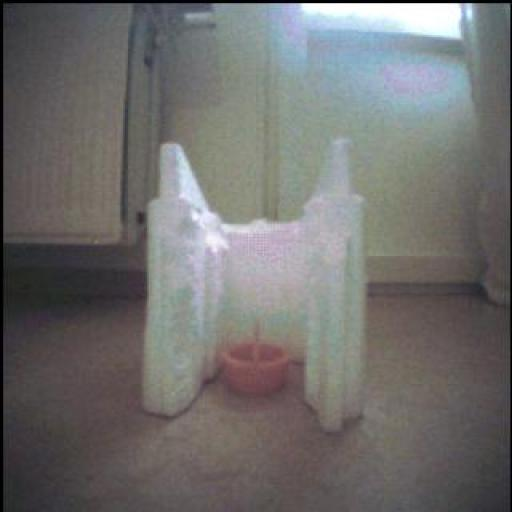Basket: (224, 342, 293, 396)
